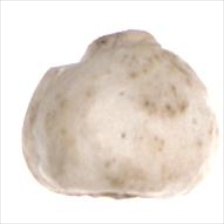L3: (63, 27, 169, 66)
L4: (20, 29, 218, 200)
